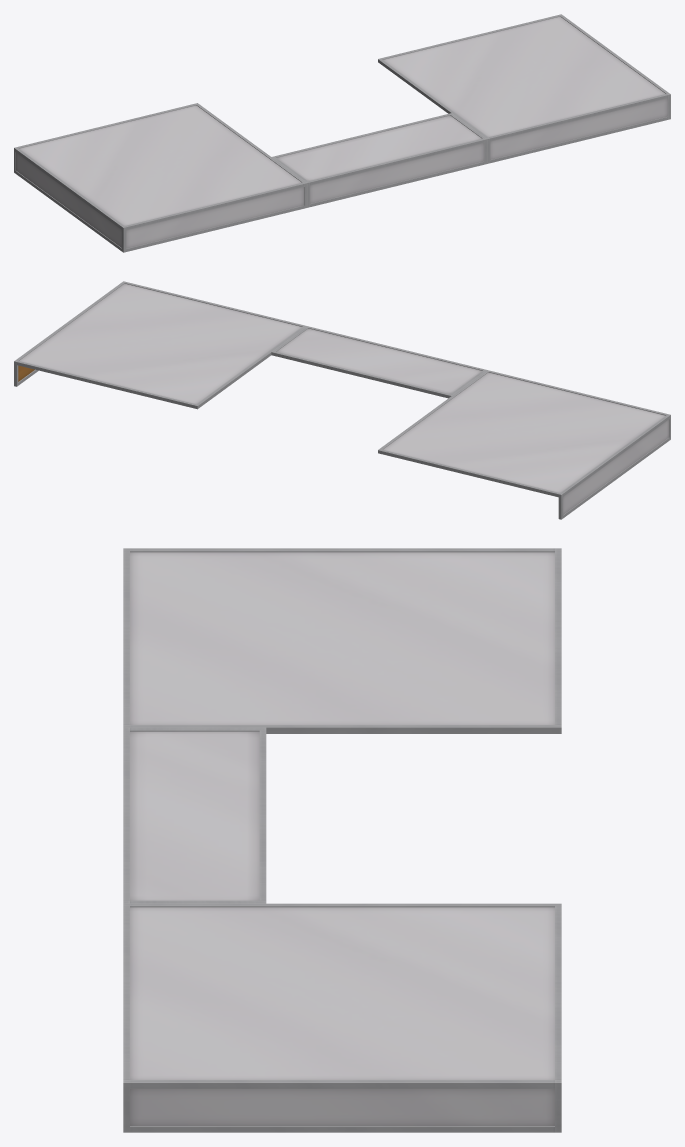
Rendered from jsf_2P_s03_c04_t02_DX.fbx.
3 renders of one model, top to bottom at view 1: azimuth 30°, elevation 25°; view 2: azimuth 150°, elevation 25°; view 3: azimuth 270°, elevation 25°, orthographic. The views are drawn at different scales.
Visible parts, largest first — view 1: jsf_2P_s03_c04_t02_DX; view 2: jsf_2P_s03_c04_t02_DX; view 3: jsf_2P_s03_c04_t02_DX.
Boxes of the visible parts, left/top/right/bottom form: jsf_2P_s03_c04_t02_DX: left=14, top=14, right=670, bottom=252; jsf_2P_s03_c04_t02_DX: left=14, top=281, right=670, bottom=519; jsf_2P_s03_c04_t02_DX: left=123, top=548, right=561, bottom=1132.
Size of the model in its own units: 289 by 12.51 by 100.
